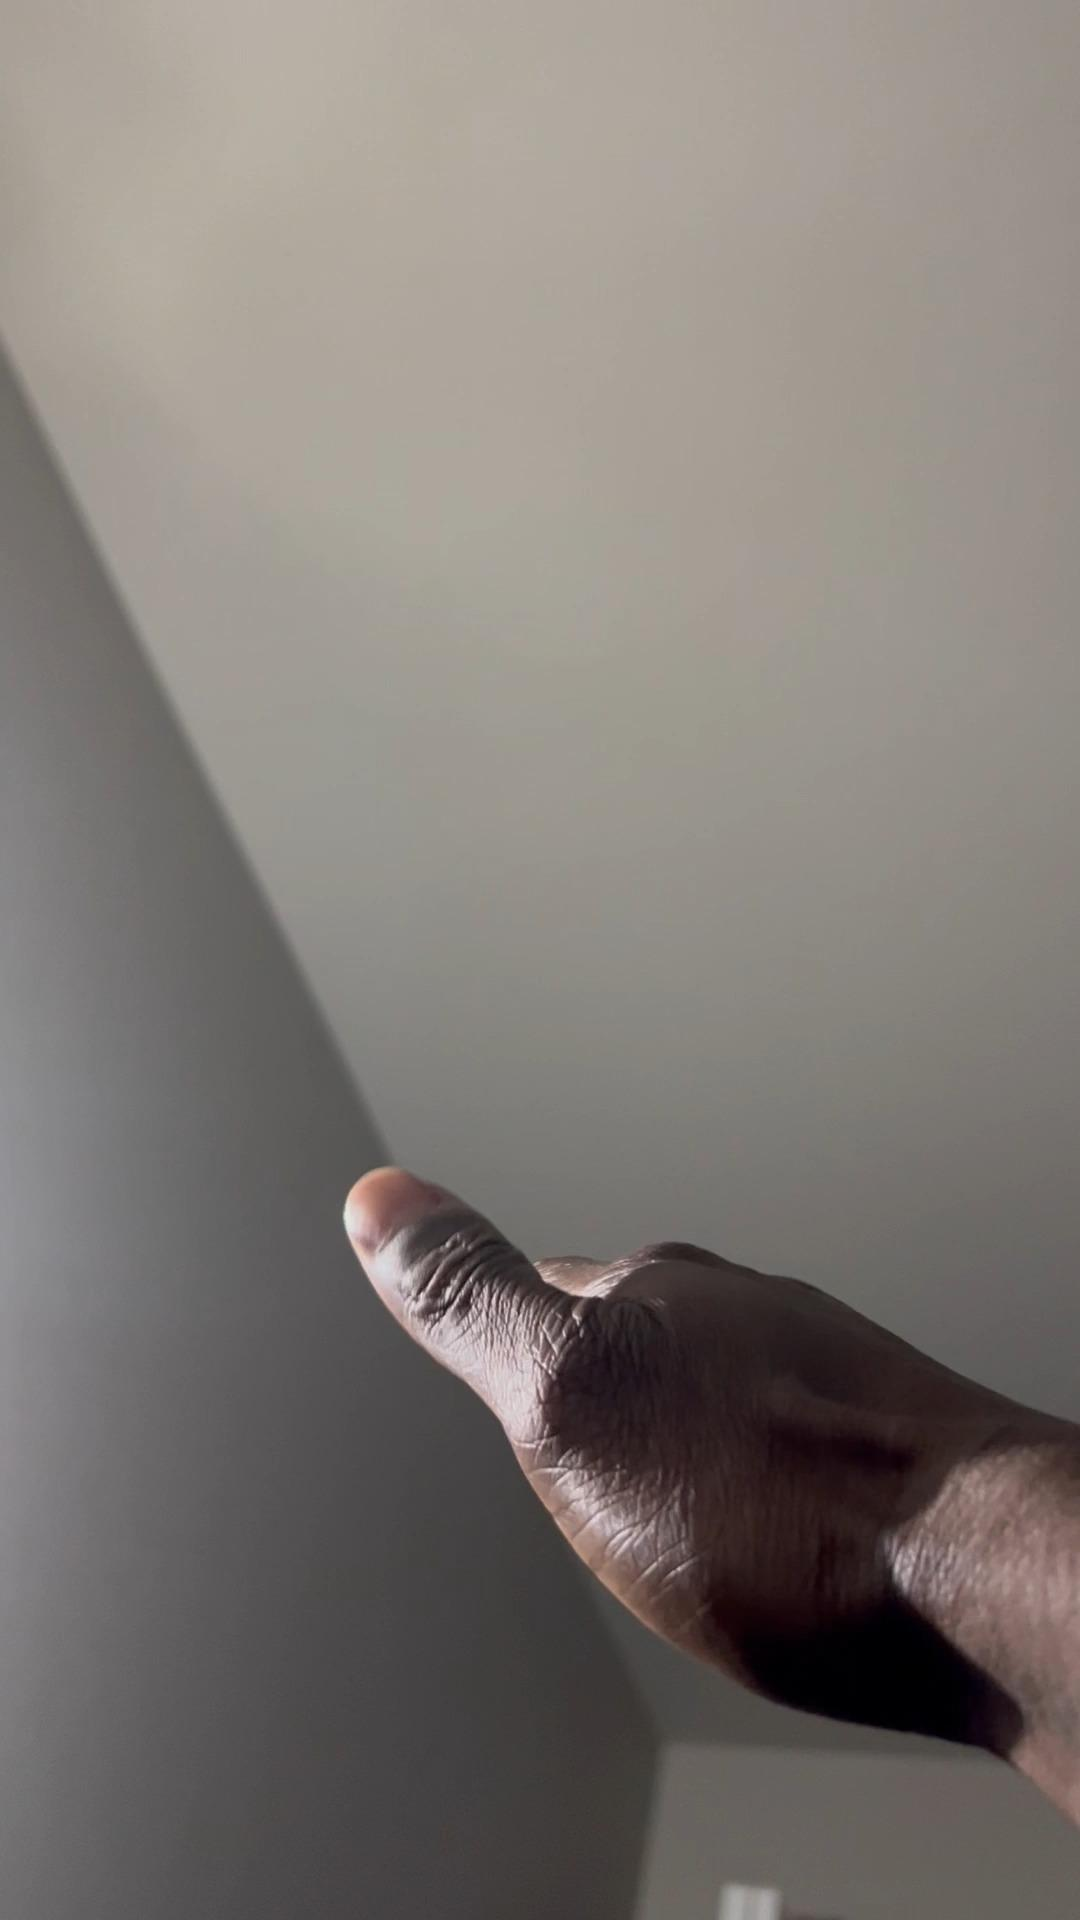Paper: (343, 1156, 1055, 1775)
